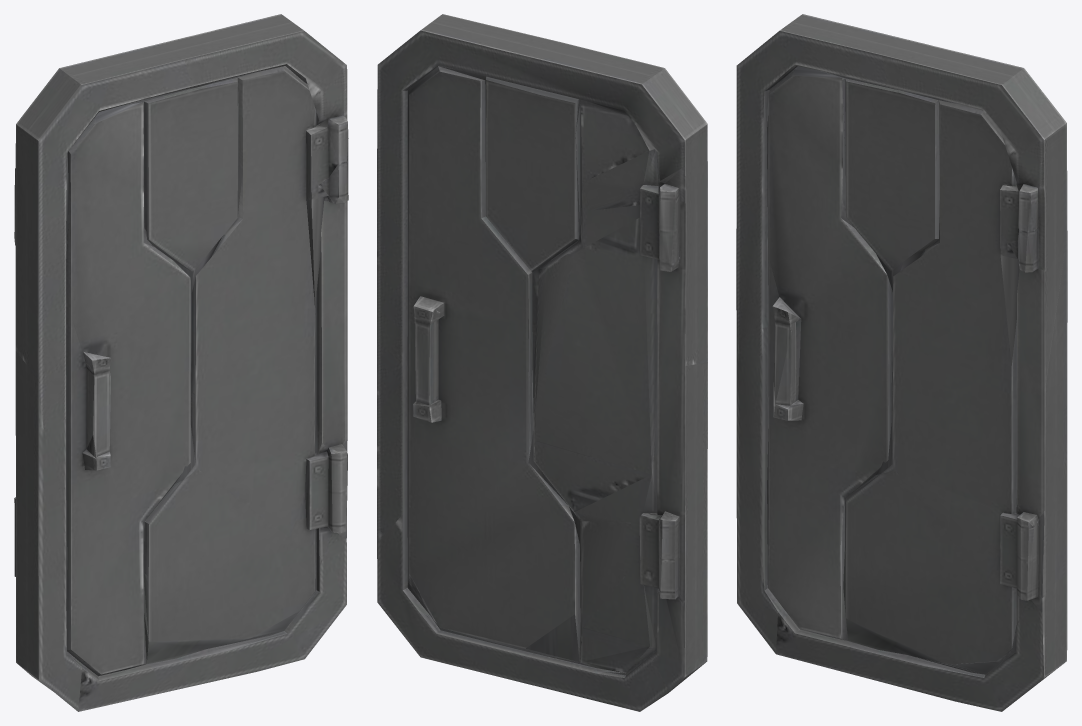
The model's file is shared_flak_tower_large_option__entrance_door_leaf_lod1.glb.
3 views of the same model, side by side, from view 1: azimuth 30°, elevation 25°; view 2: azimuth 150°, elevation 25°; view 3: azimuth 330°, elevation 25° (orthographic).
Parts seen in each view (by area): view 1: mesh_node; view 2: mesh_node; view 3: mesh_node.
Part boxes in pixels (x1,y1,x2,y2): mesh_node: [14, 14, 348, 711]; mesh_node: [377, 14, 707, 711]; mesh_node: [736, 14, 1067, 711].
Size of the model in its own units: 1.53 by 2.99 by 0.367.
1 material, 1 textured.
